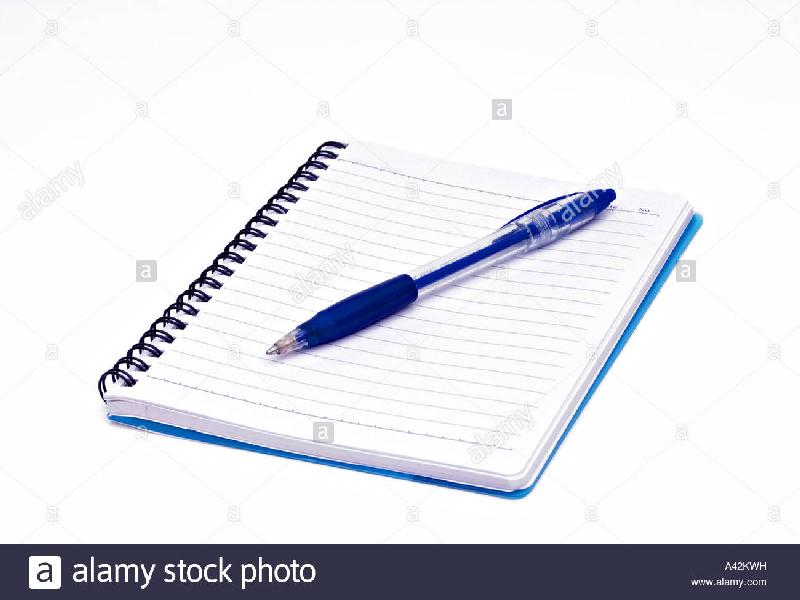pen: (264, 184, 625, 363)
